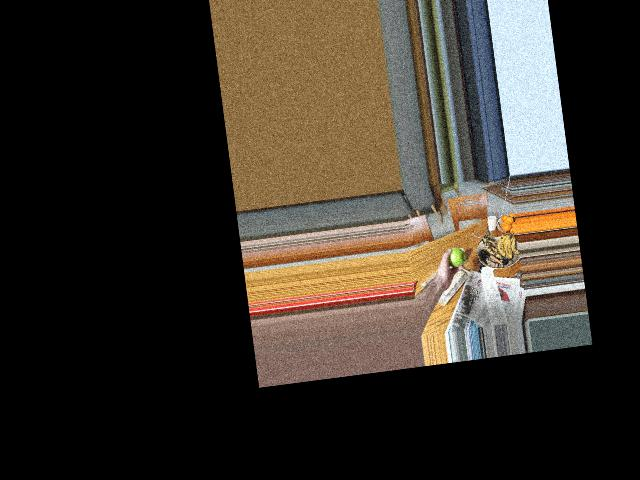apple: (442, 244, 467, 270)
